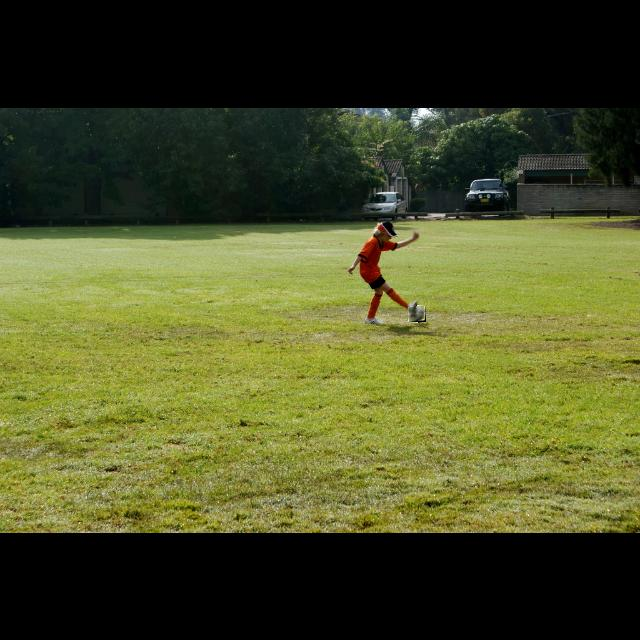Football: (408, 306, 426, 322)
